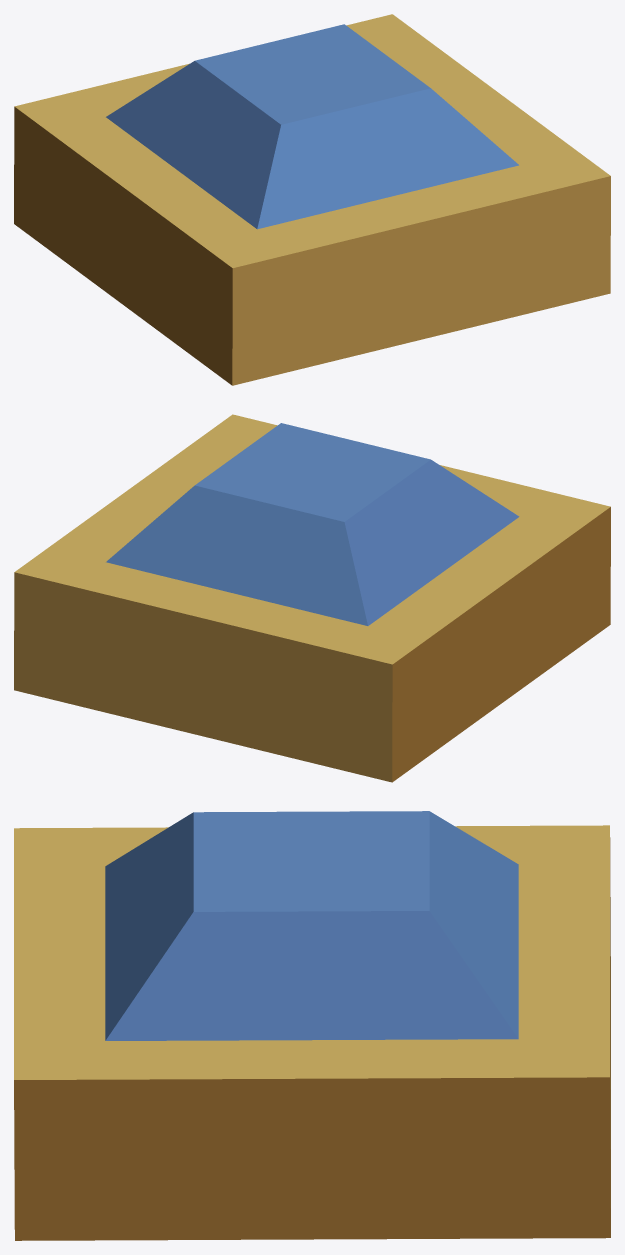
The model's file is SD_Prop_Gem_05.fbx.
The picture shows the model from 3 angles, top to bottom: view 1: azimuth 30°, elevation 25°; view 2: azimuth 150°, elevation 25°; view 3: azimuth 270°, elevation 25°; orthographic projection. The views are drawn at different scales.
Visible parts, largest first — view 1: SD_Prop_Gem_05; view 2: SD_Prop_Gem_05; view 3: SD_Prop_Gem_05.
Part boxes in pixels (x1,y1,x2,y2): SD_Prop_Gem_05: (14,14,610,385); SD_Prop_Gem_05: (14,414,610,782); SD_Prop_Gem_05: (14,811,610,1240).
Size of the model in its own units: 0.2513 by 0.1181 by 0.2516.
